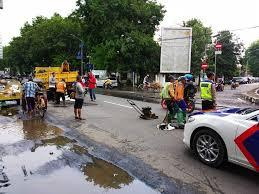Pothole: (0, 114, 144, 191)
